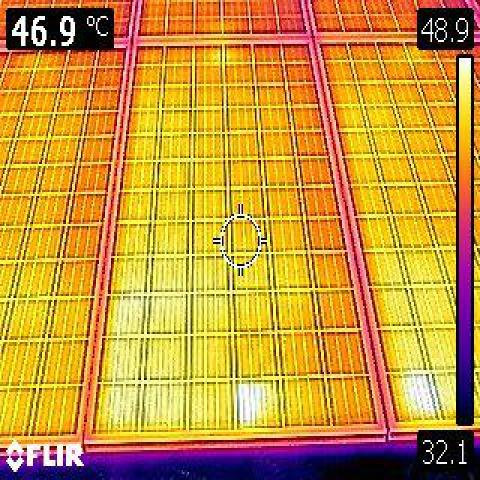fault: (397, 369, 443, 429), (231, 378, 267, 430)
